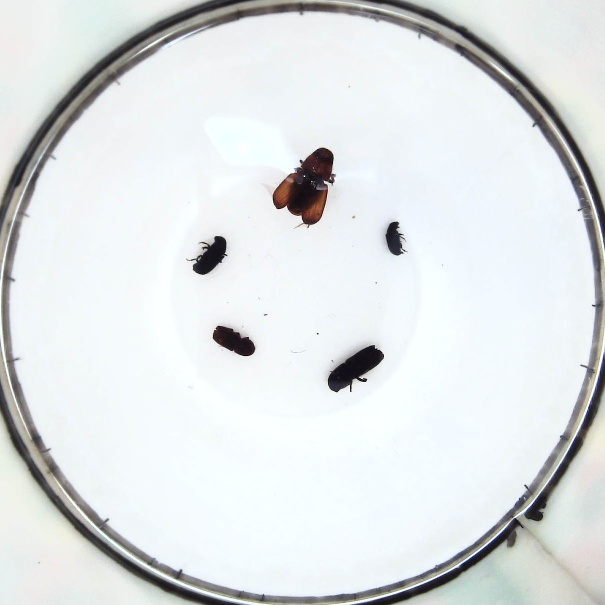armandi: (194, 234, 227, 275)
boerner: (326, 347, 383, 397)
coleoptera: (382, 220, 407, 257)
leconte: (271, 147, 335, 226)
linnaeus: (214, 327, 257, 356)
